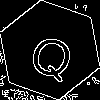Q: (25, 25, 81, 84)
